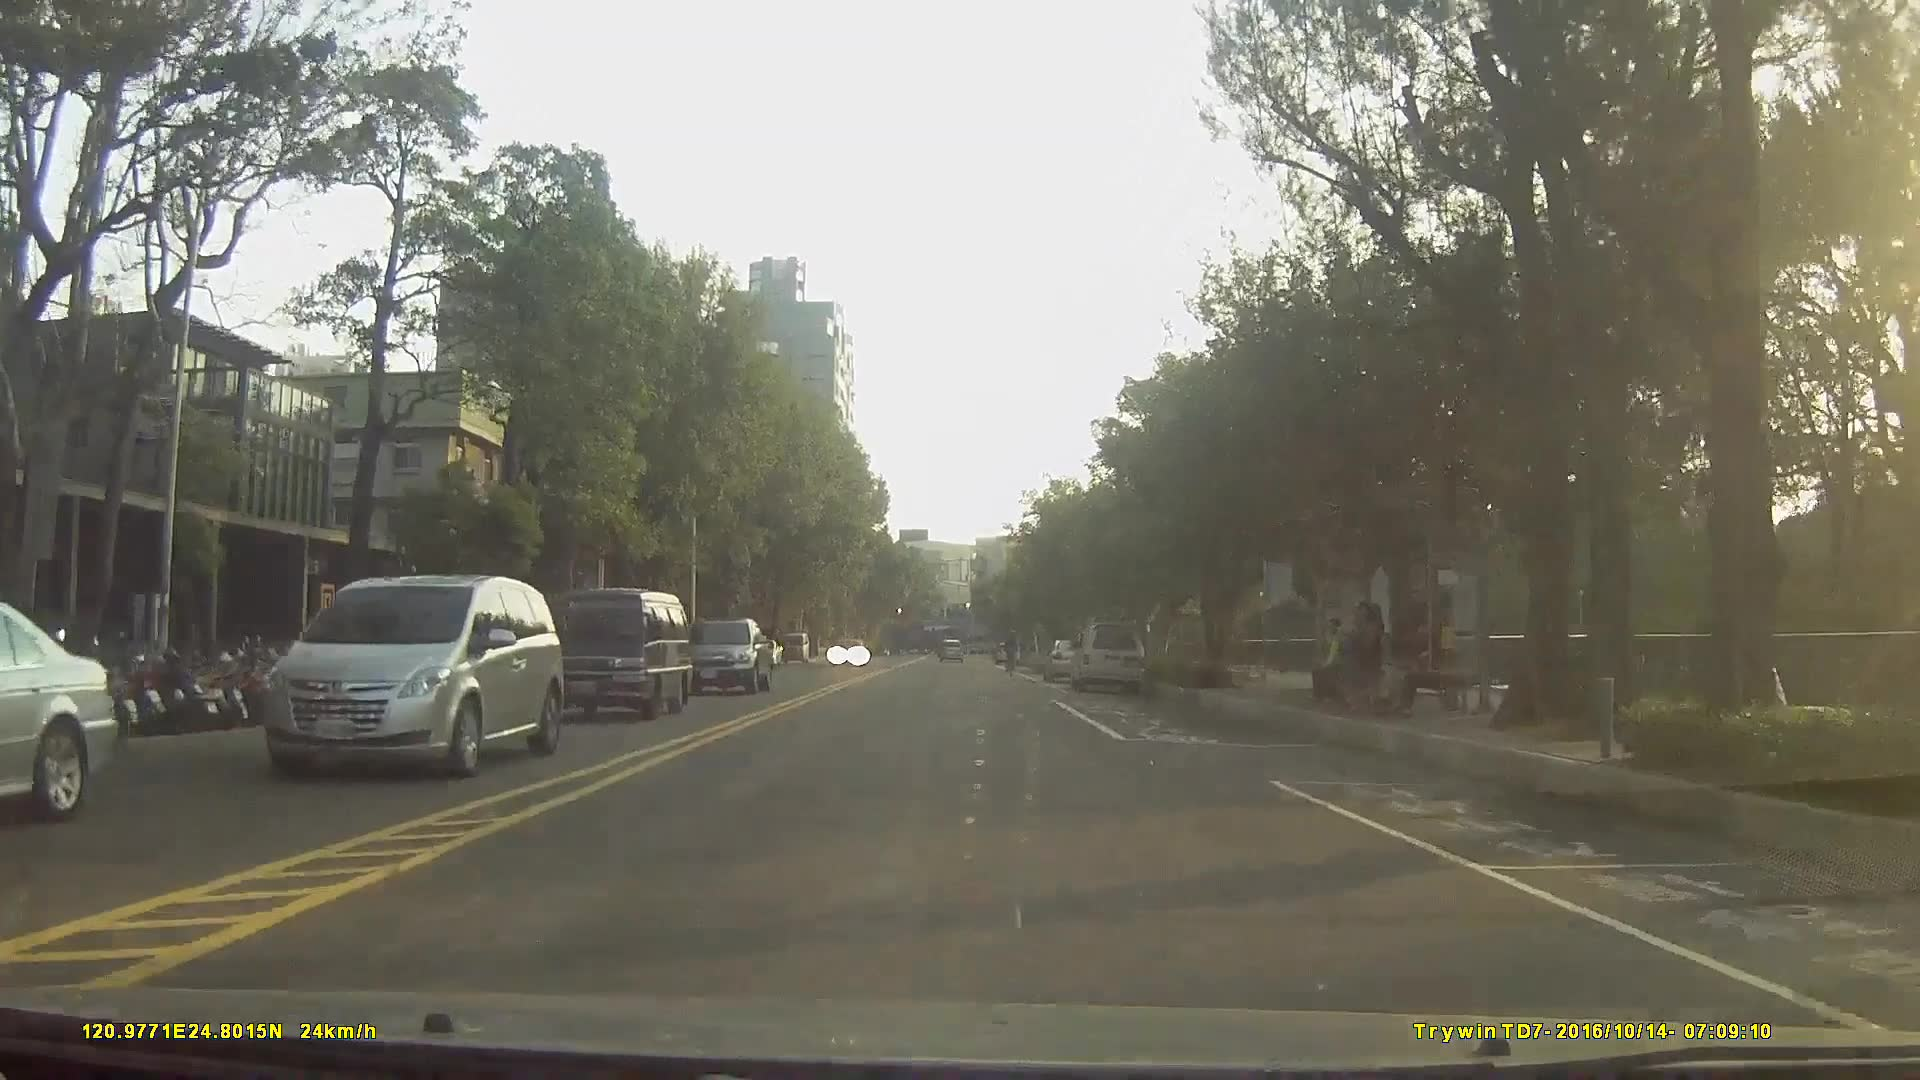pedestrian: (1341, 600, 1385, 723), (1375, 613, 1425, 716), (1310, 613, 1353, 711)
rider: (1003, 631, 1023, 682)
vehicle: (261, 575, 563, 779), (0, 601, 117, 818), (535, 587, 694, 723), (679, 616, 774, 692), (1068, 622, 1146, 695), (1043, 637, 1095, 682), (827, 635, 866, 667), (777, 634, 811, 668), (935, 635, 962, 662)
